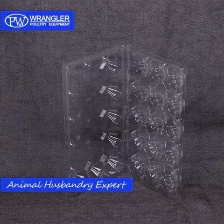plastic_box: (53, 37, 193, 209)
